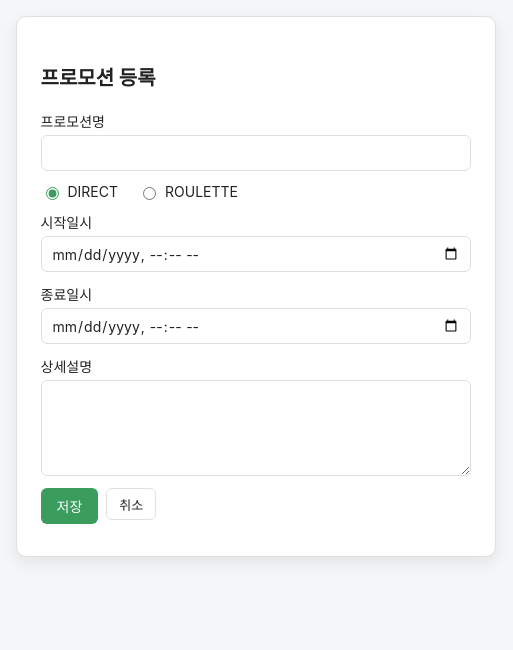
Test: AdminPromotionForm › ROULETTE 선택 시 최대 참여 횟수 입력란이 나타난다
The width and height of the screenshot is (513, 650).
Click the radio button labelled "ROULETTE" at point(150, 193), box top-left (143, 187), bottom-right (156, 200)
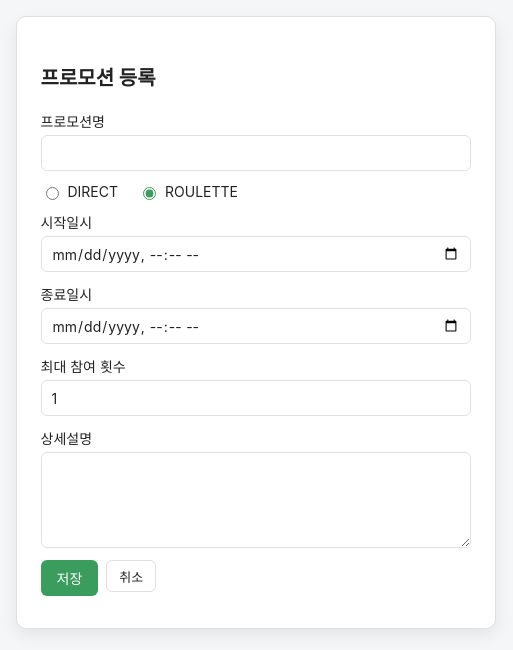
Expected: the number field labelled "최대 참여 횟수" is shown, top-left (40, 380), bottom-right (470, 416)
